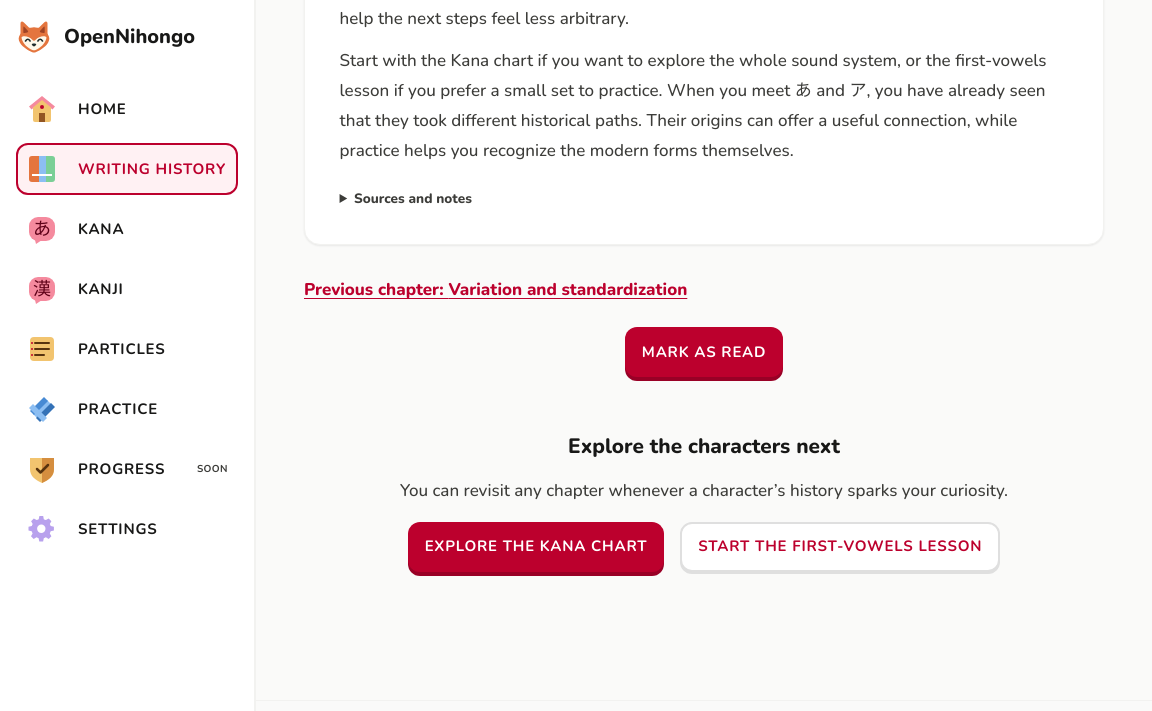
writing history reader › opens arbitrary chapter links, revisits freely and offers the character-learning paths
(page scrolled)
Step 1. Click the button "Mark as read" → click(704, 352), box x1=625 y1=327 x2=783 y2=377
(page scrolled)
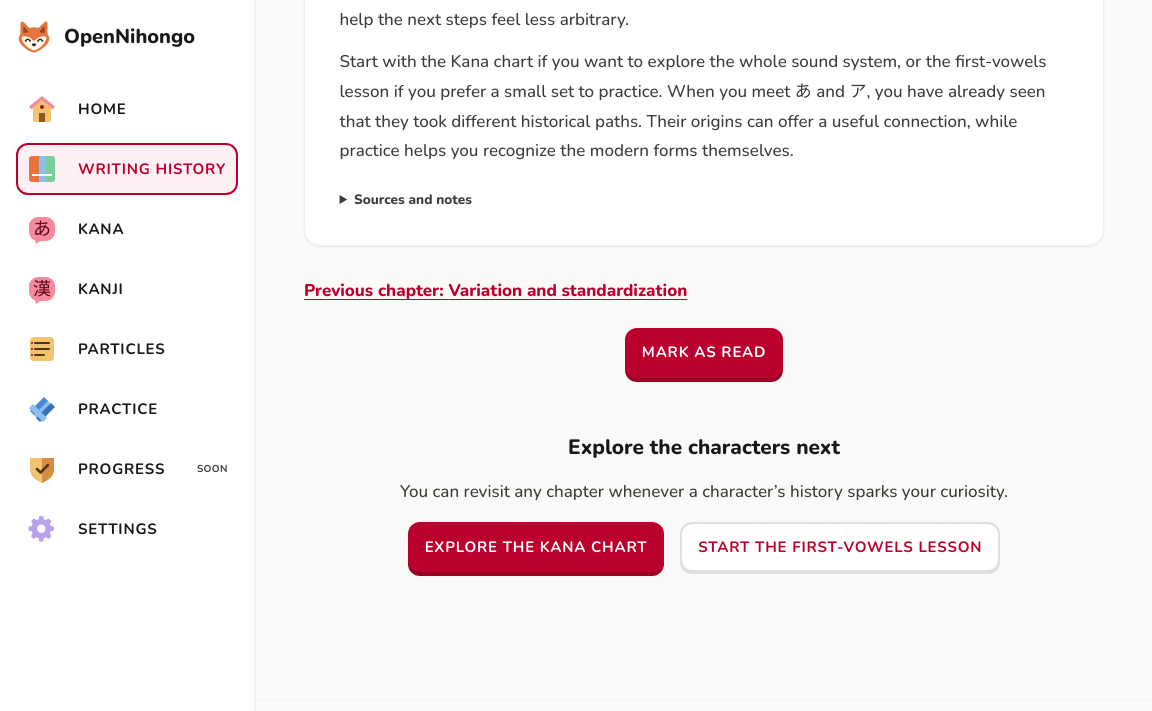
Step 2. Click the link "Previous chapter: Variation and standardization" → click(496, 291), box x1=304 y1=278 x2=687 y2=304
(page scrolled)
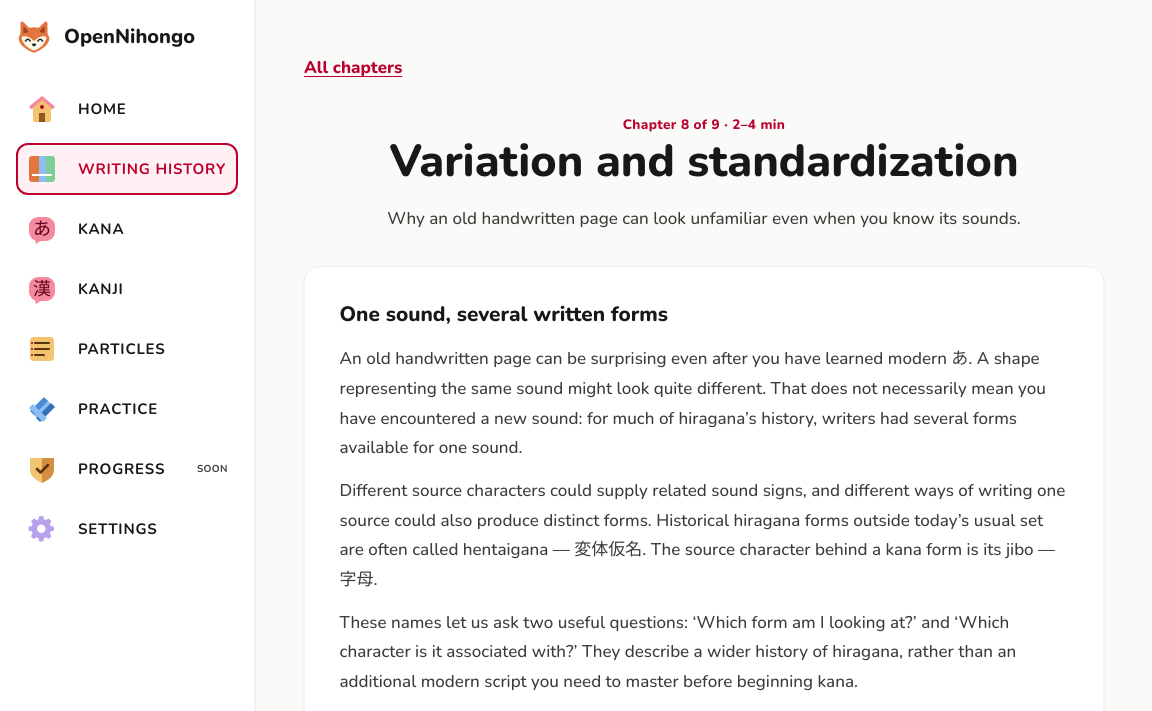
Expected: the heading "Variation and standardization" is shown, x1=368 y1=136 x2=1040 y2=188
